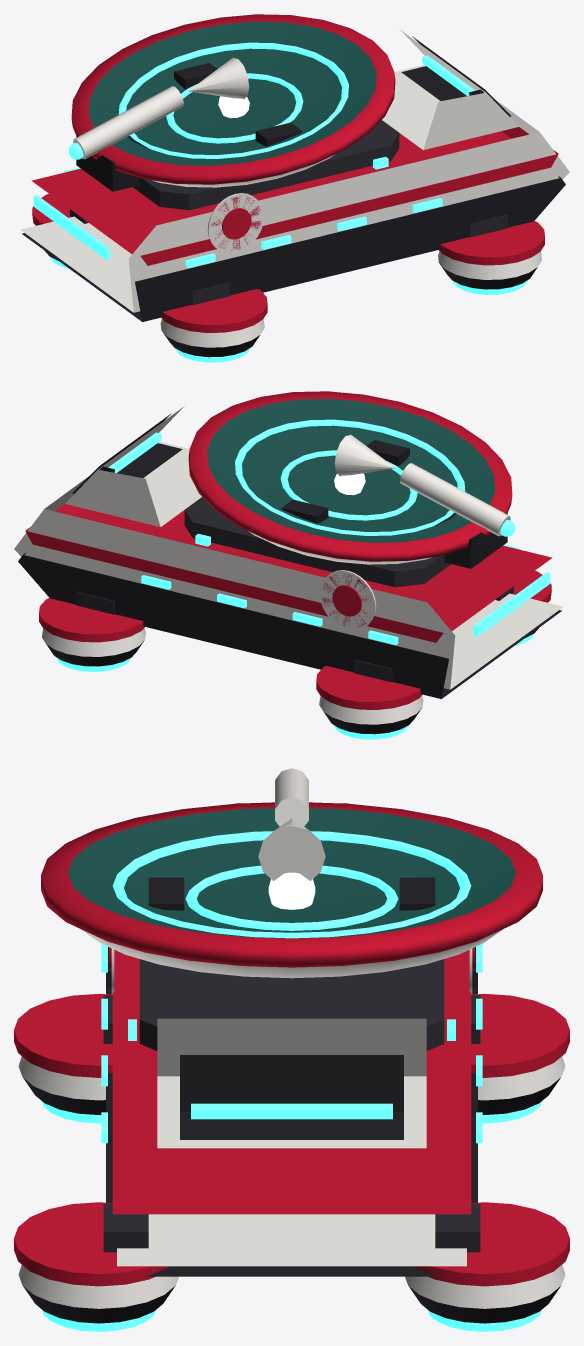
The model's file is JapanWaveCitadelNanocore.glb.
3 views of the same model, one above another, from view 1: azimuth 30°, elevation 25°; view 2: azimuth 150°, elevation 25°; view 3: azimuth 270°, elevation 25° (orthographic). The views are drawn at different scales.
Parts seen in each view (by area): view 1: Base; view 2: Base; view 3: Base.
Boxes of the visible parts, x1,y1,x2,y2 form: Base: (20,14,569,362); Base: (14,391,563,739); Base: (14,768,569,1331).
Bounding box in the file's own units: 3.52 × 1.67 × 2.48.
